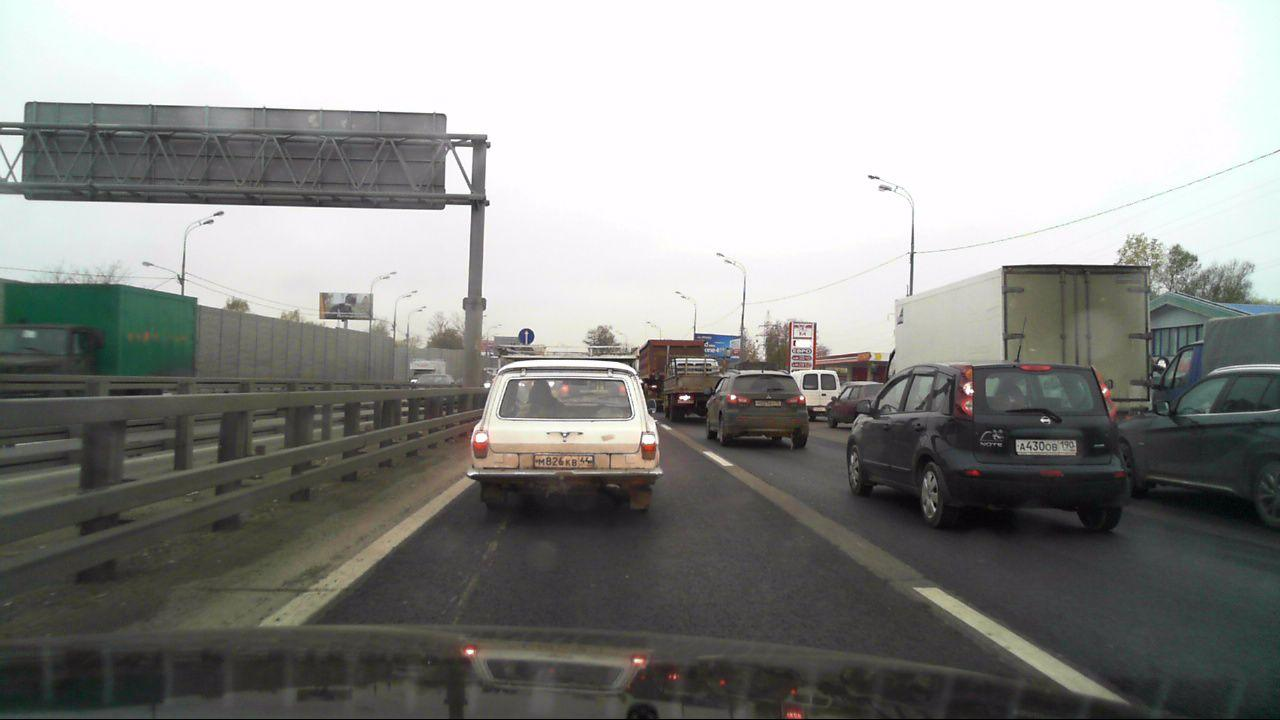road_sign: (518, 328, 535, 345)
